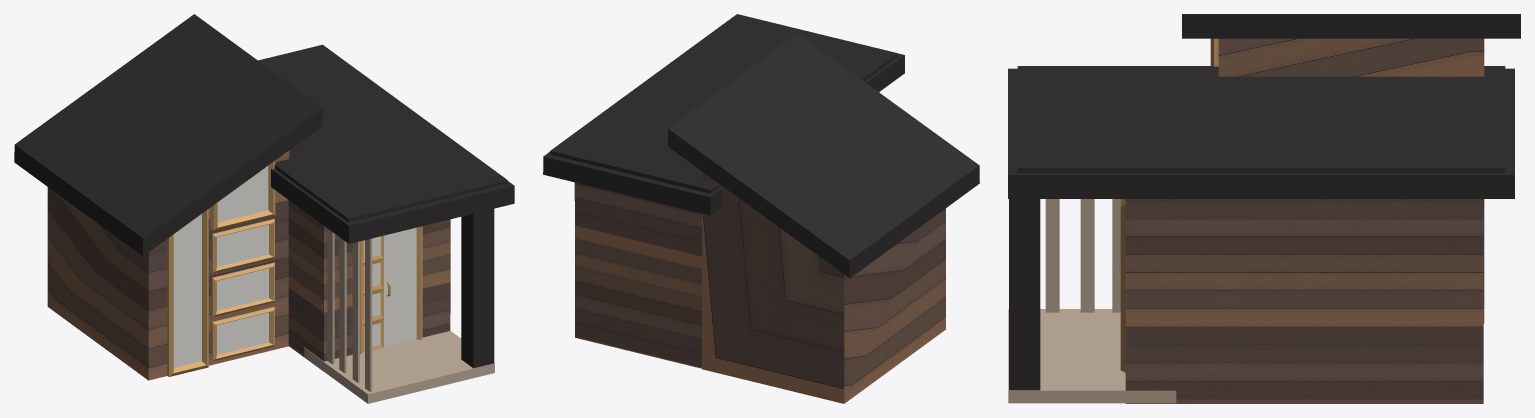
Rendered from house2.fbx.
3 views of the same model, side by side, from view 1: azimuth 30°, elevation 25°; view 2: azimuth 150°, elevation 25°; view 3: azimuth 270°, elevation 25° (orthographic). The views are drawn at different scales.
Visible parts, largest first — view 1: pCube2, pCube1, pCube3, pCube9, pCube14, pCube4, pCube16, pCube17, pCube18, pCube15, pCube5, pCube6 (+2 smaller); view 2: pCube2, pCube1; view 3: pCube1, pCube2, pCube3, pCube4, pCube6, pCube7, pCube9, pCube8.
Part boxes in pixels (x1=…): pCube2: x1=14, y1=14, x2=322, y2=380; pCube1: x1=258, y1=44, x2=514, y2=368; pCube3: x1=304, y1=331, x2=494, y2=403; pCube9: x1=360, y1=226, x2=422, y2=354; pCube14: x1=167, y1=209, x2=208, y2=376; pCube4: x1=461, y1=209, x2=494, y2=368; pCube16: x1=211, y1=219, x2=274, y2=273; pCube17: x1=211, y1=262, x2=274, y2=316; pCube18: x1=211, y1=307, x2=274, y2=360; pCube15: x1=210, y1=161, x2=275, y2=230; pCube5: x1=365, y1=238, x2=372, y2=391; pCube6: x1=352, y1=241, x2=359, y2=382; pCube2: x1=668, y1=33, x2=979, y2=403; pCube1: x1=543, y1=14, x2=904, y2=368; pCube1: x1=1008, y1=66, x2=1514, y2=403; pCube2: x1=1182, y1=14, x2=1520, y2=323; pCube3: x1=1008, y1=309, x2=1176, y2=403; pCube4: x1=1009, y1=199, x2=1040, y2=390; pCube6: x1=1045, y1=199, x2=1059, y2=312; pCube7: x1=1080, y1=199, x2=1094, y2=312; pCube9: x1=1120, y1=199, x2=1125, y2=372; pCube8: x1=1112, y1=199, x2=1120, y2=312.
Bounding box in the file's own units: 11.1 × 8.45 × 12.24.
